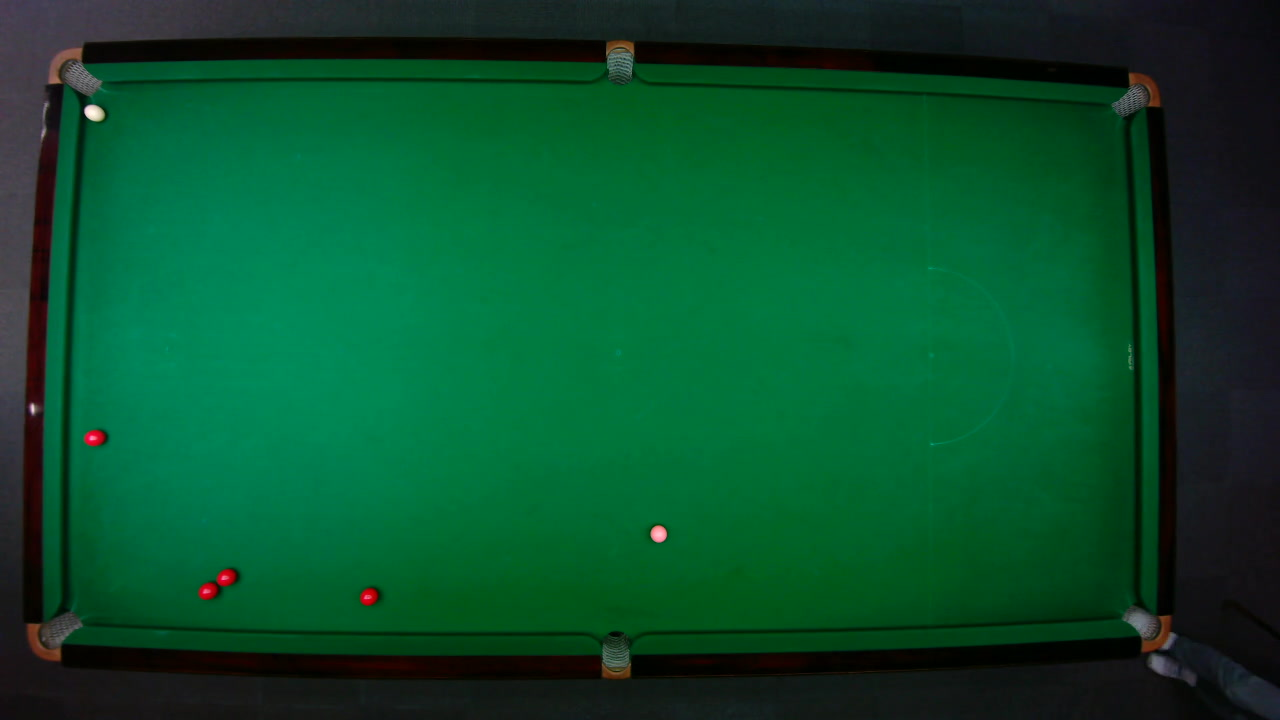bag: (25, 609, 83, 661), (46, 46, 102, 96), (1119, 604, 1172, 651), (1109, 72, 1161, 118), (600, 629, 629, 679), (605, 38, 633, 85)
pink: (648, 523, 668, 543)
red: (215, 566, 238, 586), (82, 428, 106, 446), (197, 580, 218, 600), (358, 586, 378, 606)
white: (82, 102, 106, 122)
zone: (927, 265, 1013, 444)
